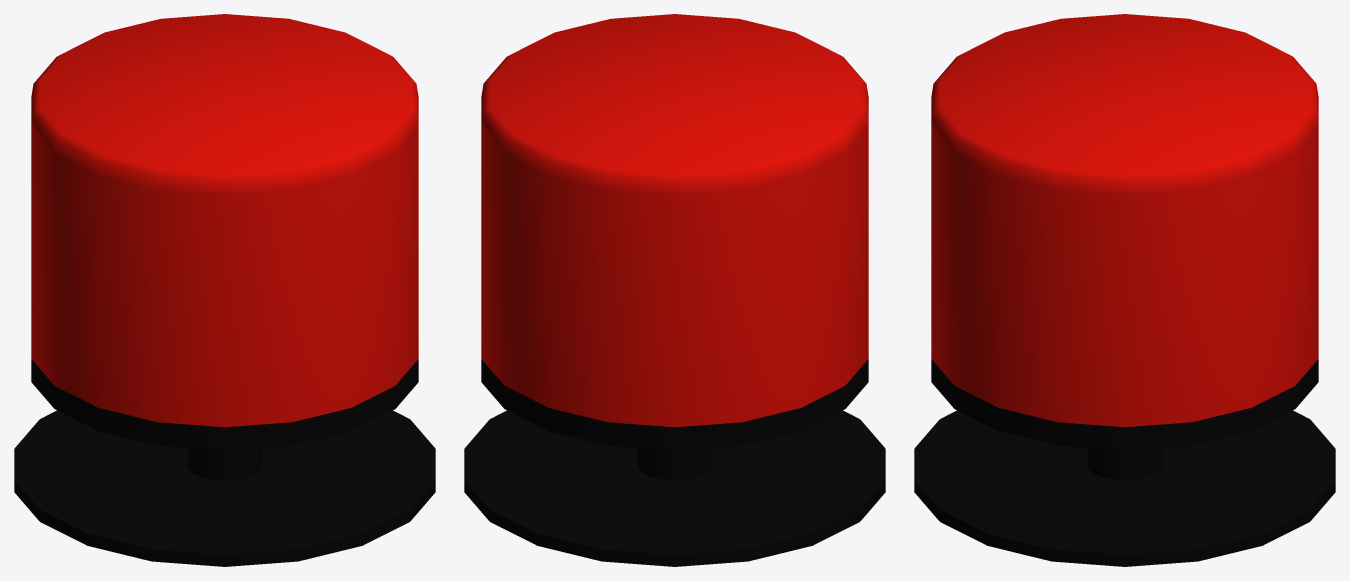
Rendered from int_chair_b_001.FBX.
3 views of the same model, side by side, from view 1: azimuth 30°, elevation 25°; view 2: azimuth 150°, elevation 25°; view 3: azimuth 270°, elevation 25° (orthographic).
Visible parts, largest first — view 1: int_chair_b_001; view 2: int_chair_b_001; view 3: int_chair_b_001.
Part boxes in pixels (left/top/right/bottom): int_chair_b_001: left=14, top=14, right=435, bottom=566; int_chair_b_001: left=464, top=14, right=885, bottom=566; int_chair_b_001: left=914, top=14, right=1335, bottom=566.
Bounding box in the file's own units: 51.88 × 51.31 × 51.09.
